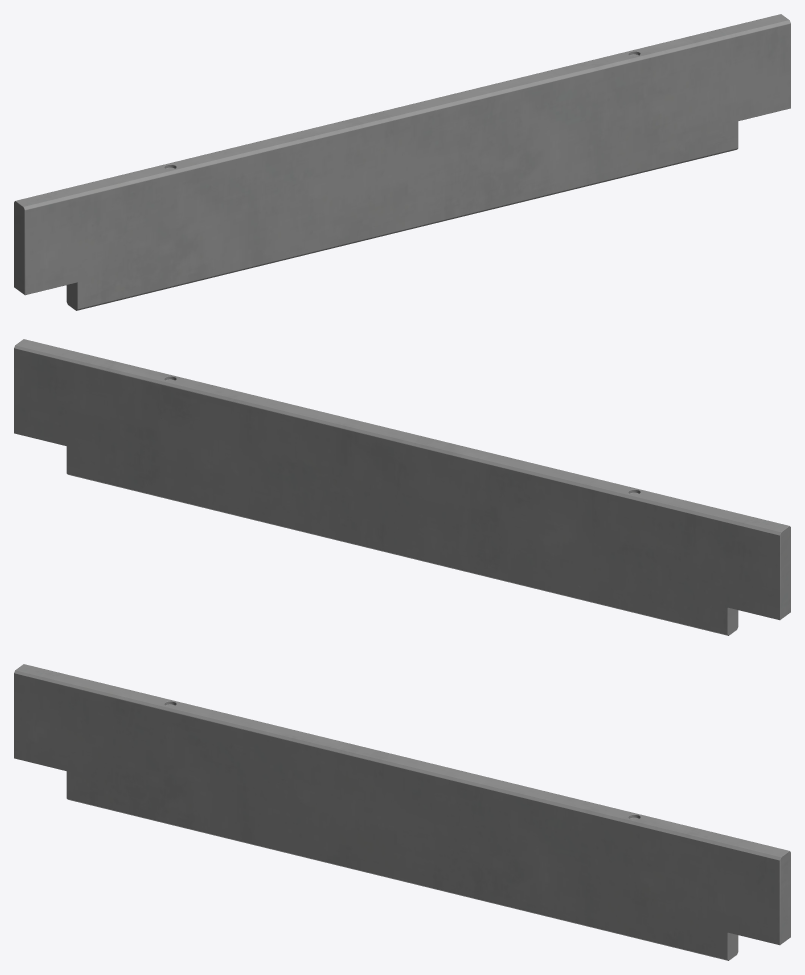
Rendered from Ekran Akustyczny.glb.
3 renders of one model, top to bottom at view 1: azimuth 30°, elevation 25°; view 2: azimuth 150°, elevation 25°; view 3: azimuth 330°, elevation 25°, orthographic.
Parts seen in each view (by area): view 1: Pod_Ekran_Akustyczny; view 2: Pod_Ekran_Akustyczny; view 3: Pod_Ekran_Akustyczny.
Boxes of the visible parts, x1,y1,x2,y2 form: Pod_Ekran_Akustyczny: (14, 14, 790, 310); Pod_Ekran_Akustyczny: (14, 339, 790, 635); Pod_Ekran_Akustyczny: (14, 664, 790, 960).
Size of the model in its own units: 5.03 by 0.7328 by 0.1258.
Materials: 1 (1 with a texture image).
